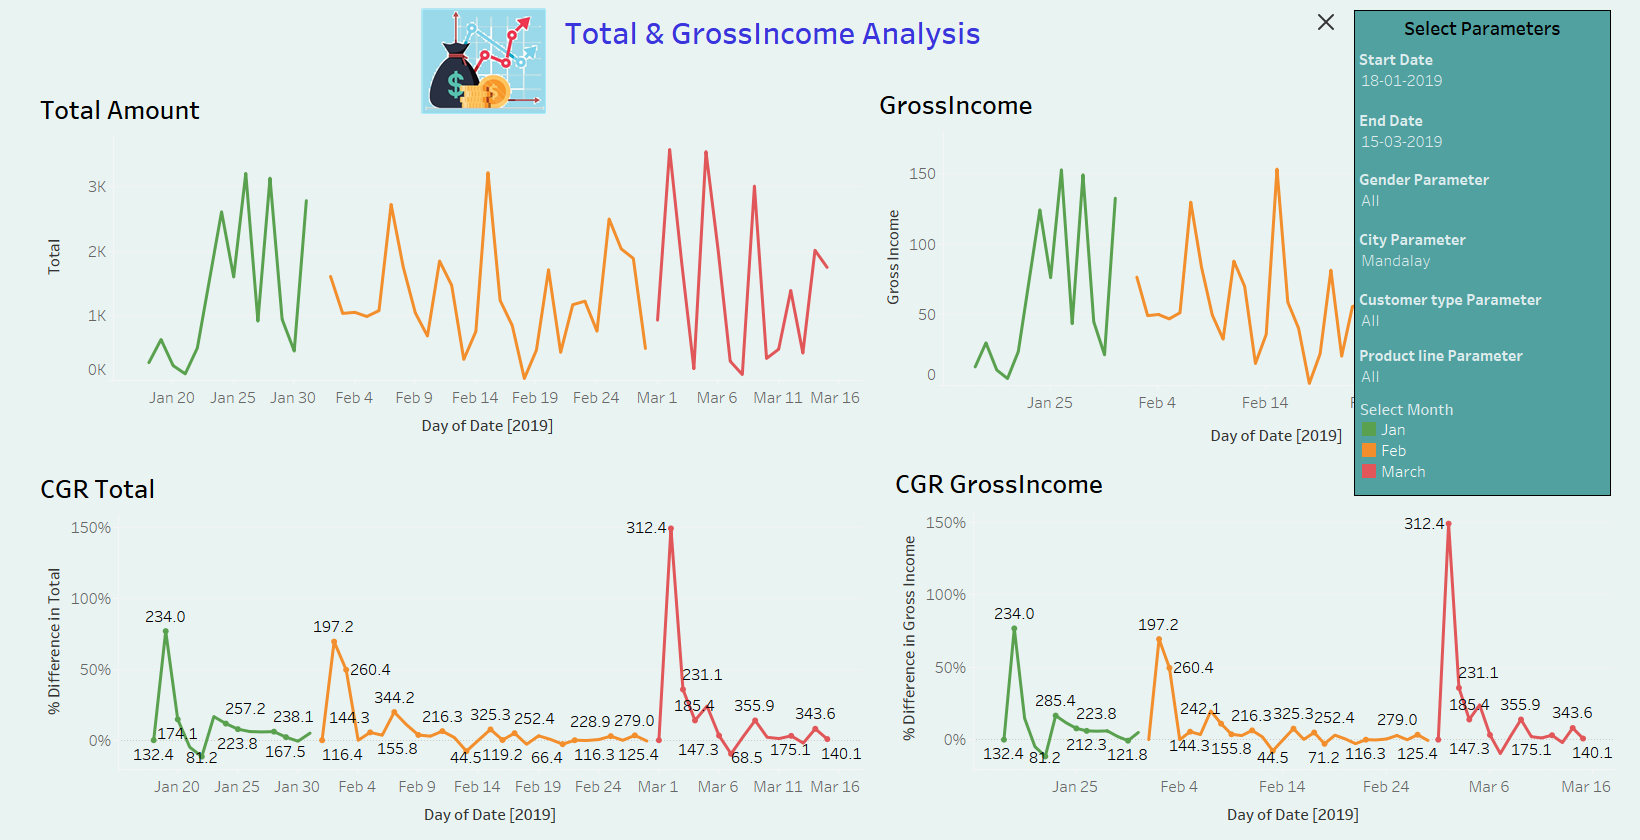

This screenshot's page, from the dashboard's own definition file:
{"tool":"tableau","page":{"name":"Total & GrossIncome Analysis","canvas":[1640,840],"ordinal":2},"visuals":[{"type":"title","box":[8,7.9,1387.5,47.4]},{"type":"image","param":"F:/Project/Tableu_data_analysis_sales/1.jpg","box":[421,8,125,109]},{"type":"dashboard-object","box":[1314,9.9,23.9,23.7]},{"type":"text","box":[1355,11,255,33]},{"type":"parameter","param":"[Parameters].[Parameter 1]","box":[1355,44,255,61]},{"type":"worksheet","title":"GrossIncome","mark":"Automatic","rows":["gross income"],"cols":["Date"],"box":[874.7,81,734.5,364.7]},{"type":"worksheet","title":"Total","mark":"Automatic","rows":["Total"],"cols":["Date"],"box":[36,86,826,357]},{"type":"parameter","param":"[Parameters].[Date (copy)_633881687770341377]","box":[1355,105,255,59]},{"type":"parameter","param":"[Parameters].[Gender Parameter]","box":[1355,164,255,60]},{"type":"parameter","param":"[Parameters].[City Parameter]","box":[1355,224,255,60]},{"type":"parameter","param":"[Parameters].[Customer type Parameter]","box":[1355,284,255,56]},{"type":"parameter","param":"[Parameters].[Product line Parameter]","box":[1355,340,255,53]},{"type":"legend","title":"Total","param":"[federated.04wwcjf12sljeo14235ak1py9ucm].[Date Group Month]","box":[1355,393,255,93]},{"type":"worksheet","title":"CGR GrossIncome vs Date ","mark":"Automatic","rows":["gross income"],"cols":["Date"],"box":[891,460,722,372]},{"type":"worksheet","title":"CGR Total  vs Date","mark":"Automatic","rows":["Total"],"cols":["Date"],"box":[36,465,826,367]}]}

Visuals, with their boxes in screenshot pixels (x1, y1, x2, y2), scaled from the page's 1640x840 canvas onto the 1640x840 screenshot:
title: bbox(8, 8, 1396, 55)
image: bbox(421, 8, 546, 117)
dashboard-object: bbox(1314, 10, 1338, 34)
text: bbox(1355, 11, 1610, 44)
parameter: bbox(1355, 44, 1610, 105)
"GrossIncome" worksheet: bbox(875, 81, 1609, 446)
"Total" worksheet: bbox(36, 86, 862, 443)
parameter: bbox(1355, 105, 1610, 164)
parameter: bbox(1355, 164, 1610, 224)
parameter: bbox(1355, 224, 1610, 284)
parameter: bbox(1355, 284, 1610, 340)
parameter: bbox(1355, 340, 1610, 393)
"Total" legend: bbox(1355, 393, 1610, 486)
"CGR GrossIncome vs Date " worksheet: bbox(891, 460, 1613, 832)
"CGR Total  vs Date" worksheet: bbox(36, 465, 862, 832)
